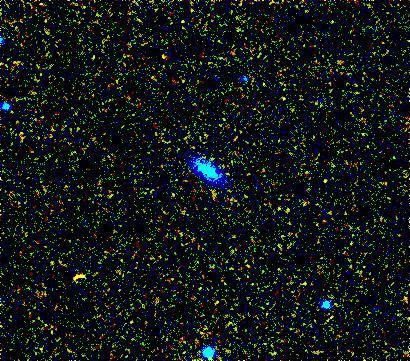star: (65, 259, 95, 289)
